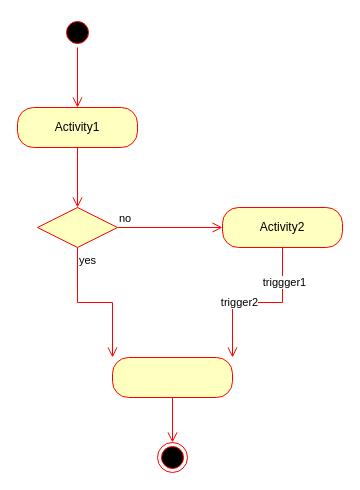
Image size: 360x490. Some labels were removed from this diagram. The box of each missing label's shape, as (x1, y1, x2, y2) in pixels:
Activity3: (112, 356, 232, 398)
Condition: (36, 206, 118, 248)
